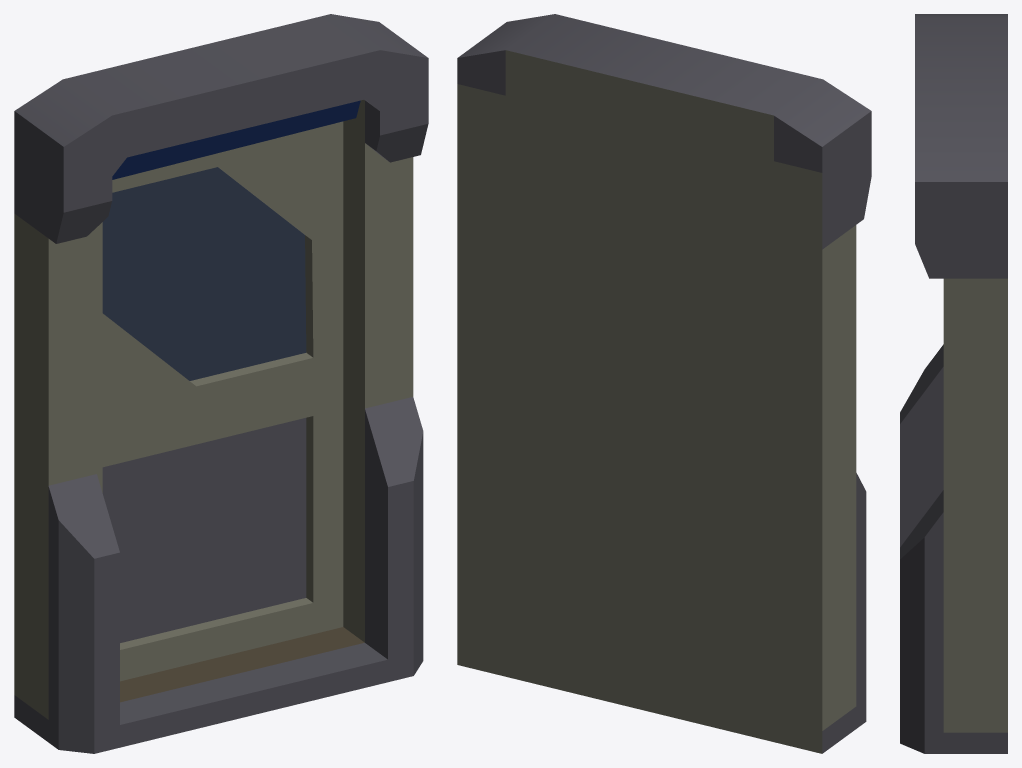
Rendered from LPSciFi_SingleDoor.fbx.
3 views of the same model, side by side, from view 1: azimuth 30°, elevation 25°; view 2: azimuth 150°, elevation 25°; view 3: azimuth 270°, elevation 25° (orthographic). The views are drawn at different scales.
Visible parts, largest first — view 1: SingleDoor; view 2: SingleDoor; view 3: SingleDoor.
Part boxes in pixels (x1,y1,x2,y2): SingleDoor: (14,14,428,753); SingleDoor: (457,14,871,753); SingleDoor: (900,14,1007,753).
Bounding box in the file's own units: 160 × 263 × 43.56.
